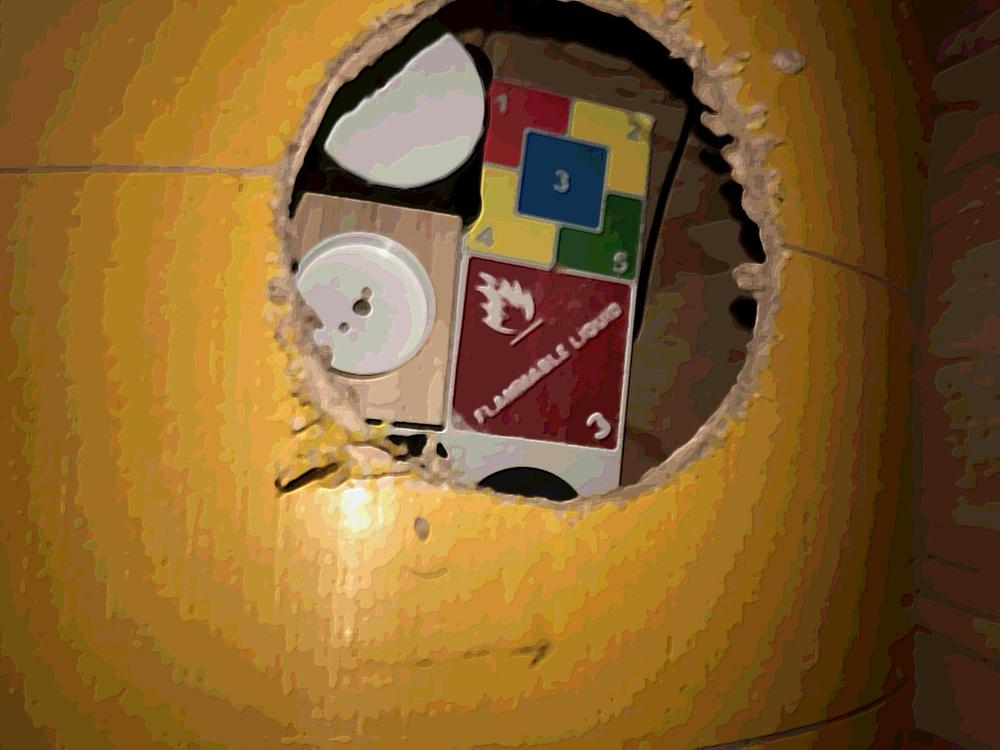flammable: (446, 257, 636, 447)
